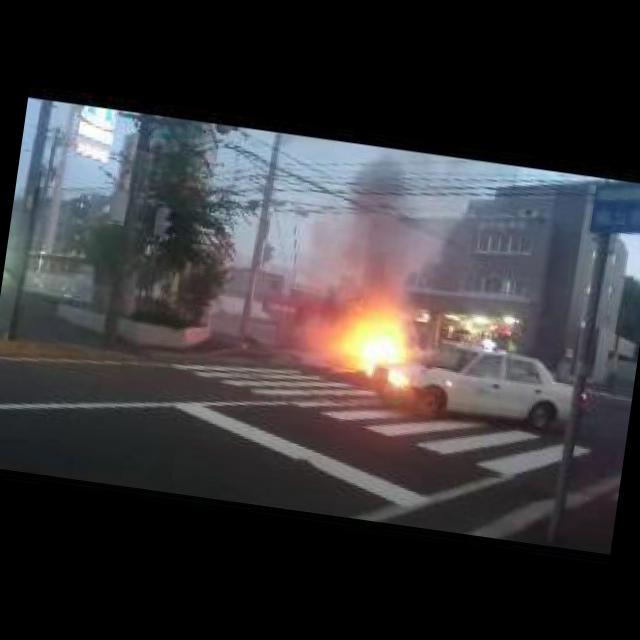fire: (334, 308, 417, 386)
smoke: (300, 145, 448, 320), (247, 280, 344, 372)
